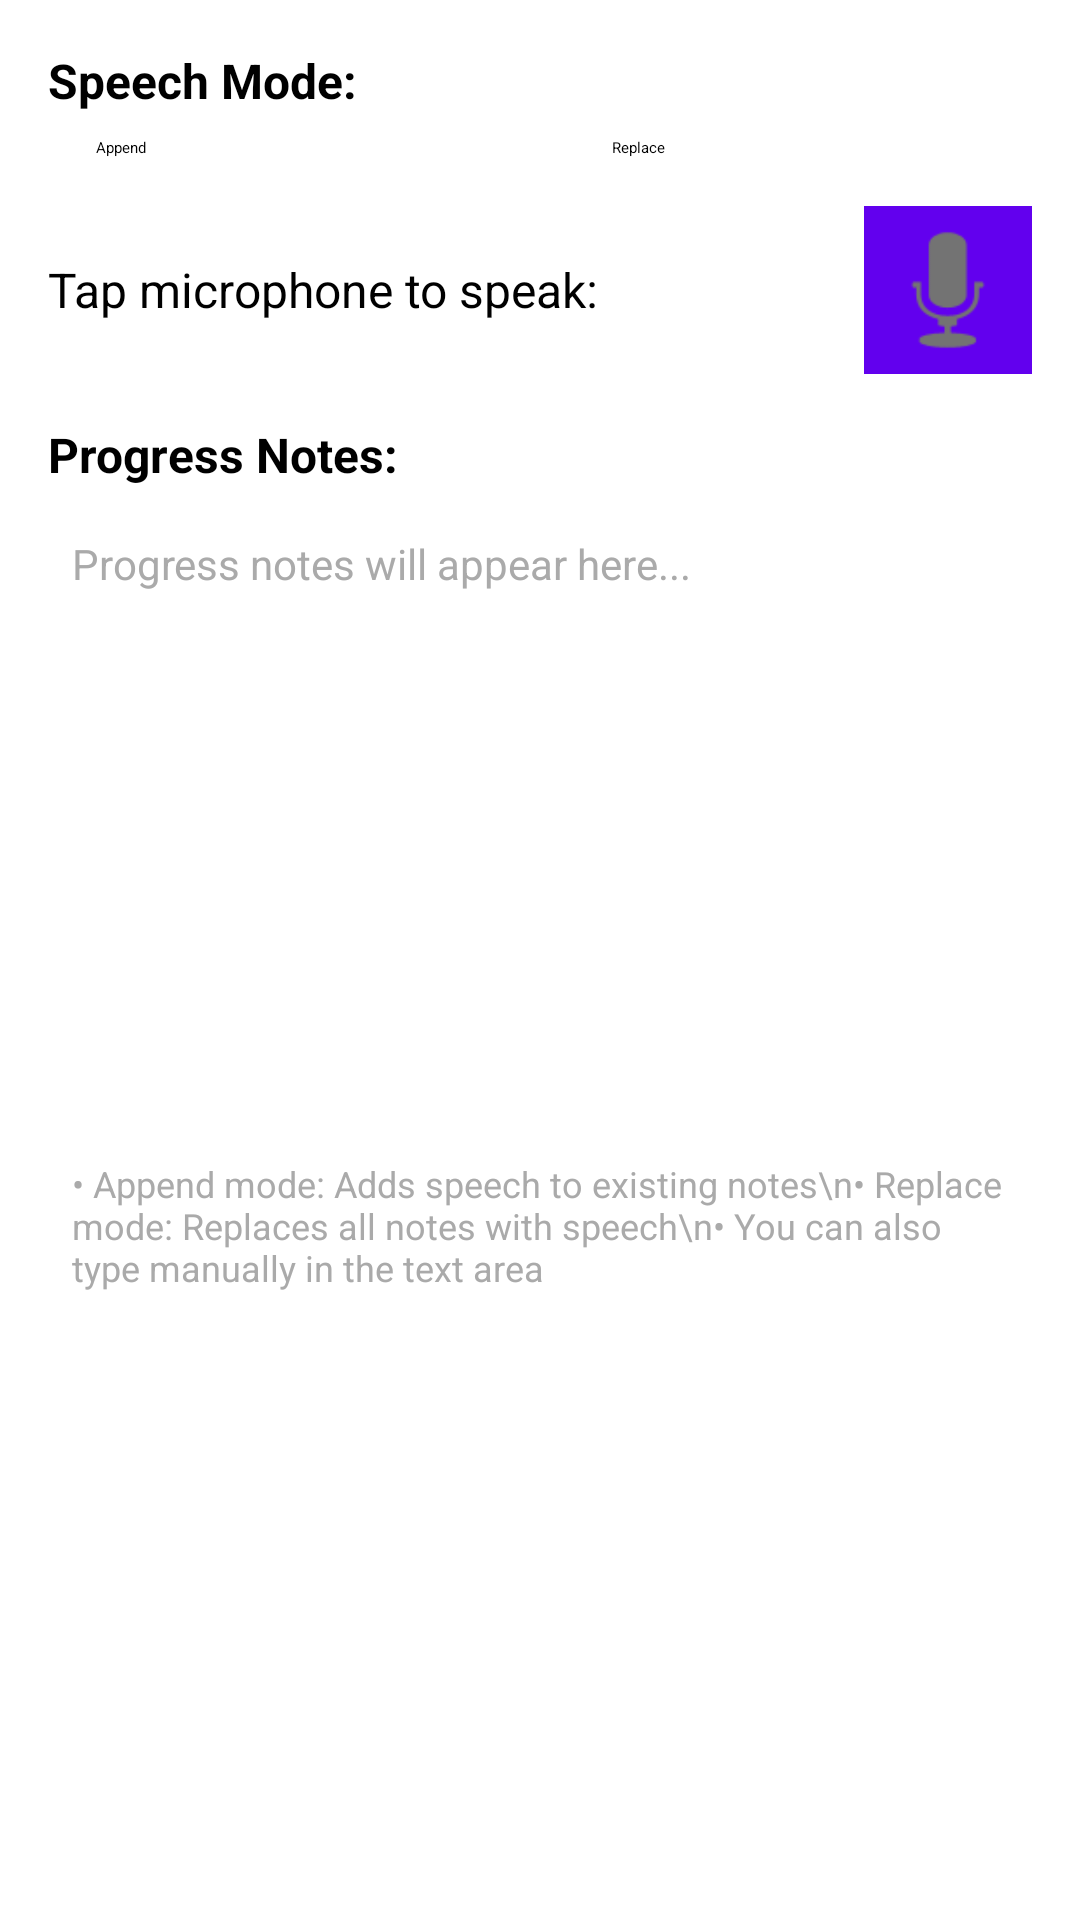

Point at icon controls on the screen. Image size 1080px x 1920px, points as (x=x, y=y).
Start speech recognition: (x=948, y=290)
